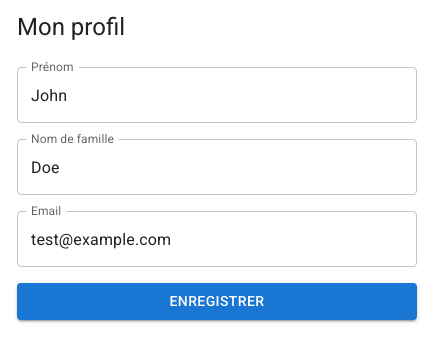
Scenario: UserProfile › devrait désactiver le bouton pendant la soumission
Replace the text in the field labelled "Prénom" with "Jane": point(217, 95) x1=17 y1=67 x2=417 y2=123
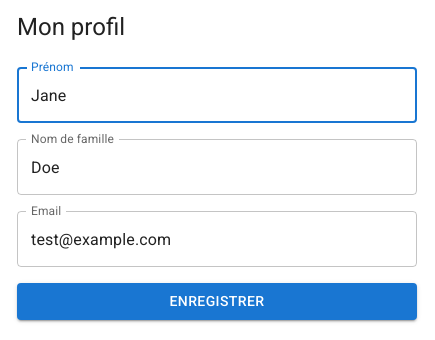
Click the button "Enregistrer": point(217, 301) x1=17 y1=283 x2=417 y2=320
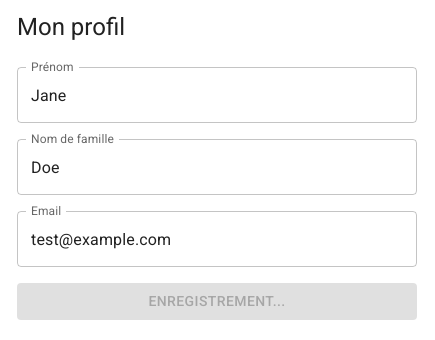
Expected: the button "Enregistrement..." is disabled, x1=17 y1=283 x2=417 y2=320
